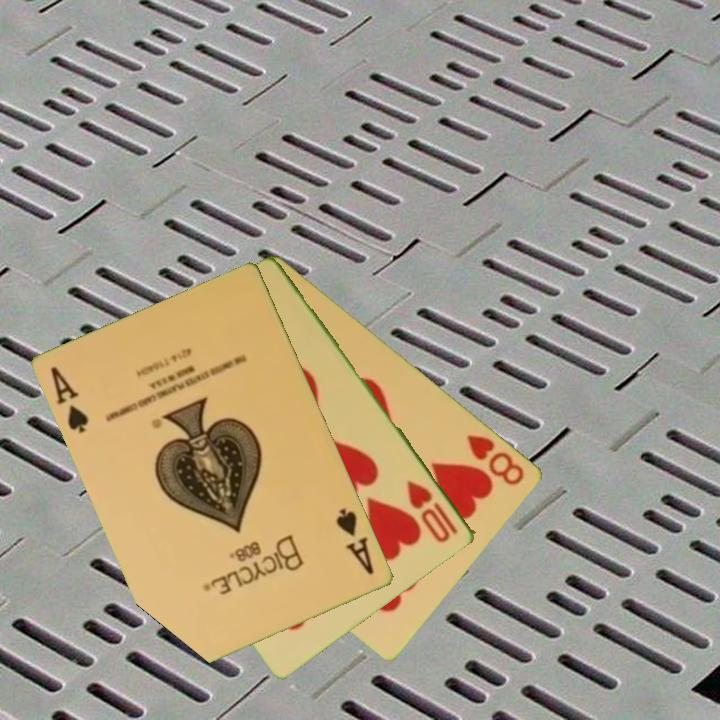10h: (403, 476, 462, 546)
8h: (464, 430, 528, 489)
As: (47, 363, 93, 437), (333, 504, 378, 578)
